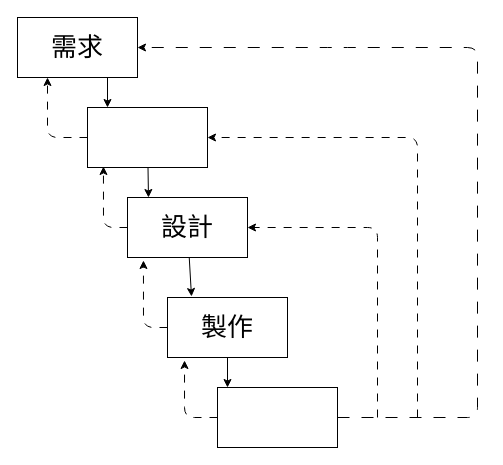
Some shapes in this 503 by 465 pixel diagram are drawn without their labels. Each missing label, with the centre of its shape:
"分析" belongs at (x=147, y=137).
"維護" belongs at (x=277, y=417).
